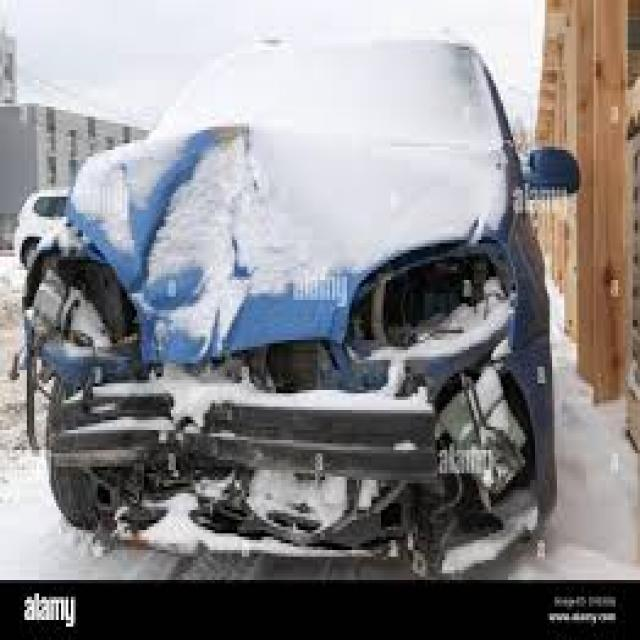damaged-head-light: (356, 253, 516, 336), (22, 240, 138, 347)
